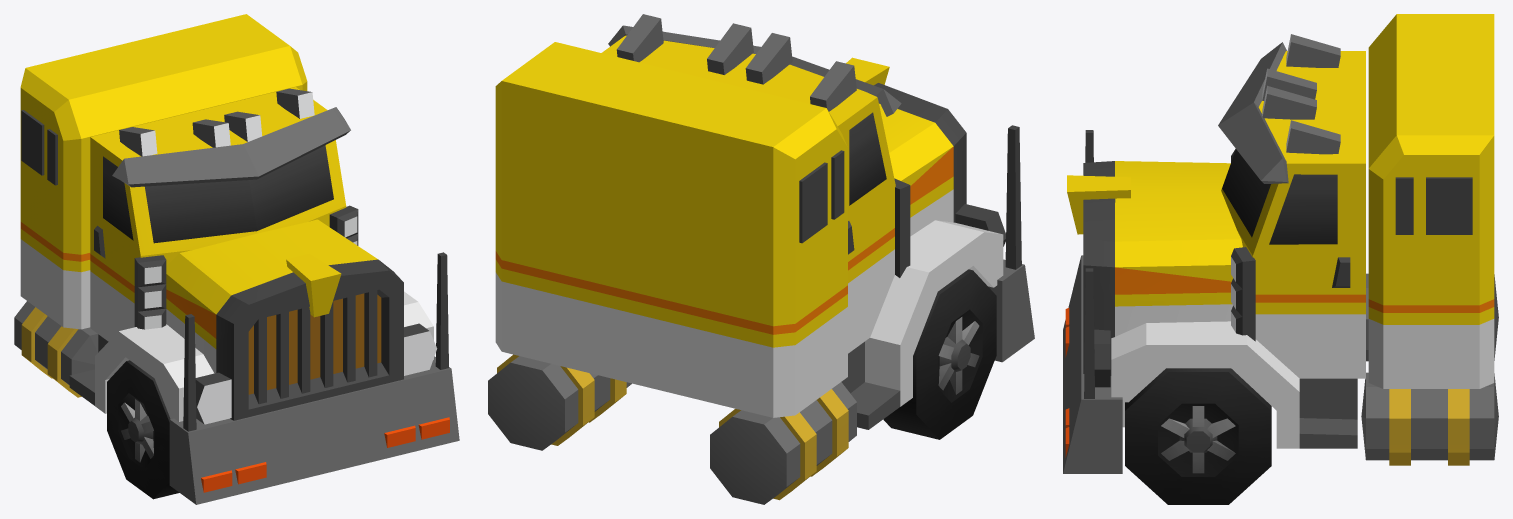
The model's file is head_I_2.fbx.
3 views of the same model, side by side, from view 1: azimuth 30°, elevation 25°; view 2: azimuth 150°, elevation 25°; view 3: azimuth 270°, elevation 25° (orthographic). The views are drawn at different scales.
Visible parts, largest first — view 1: head_I_2; view 2: head_I_2; view 3: head_I_2.
Boxes of the visible parts, <box> form: head_I_2: <box>14,14,459,504</box>; head_I_2: <box>488,14,1034,504</box>; head_I_2: <box>1063,14,1498,504</box>.
Bounding box in the file's own units: 12.91 × 14.73 × 16.15.
